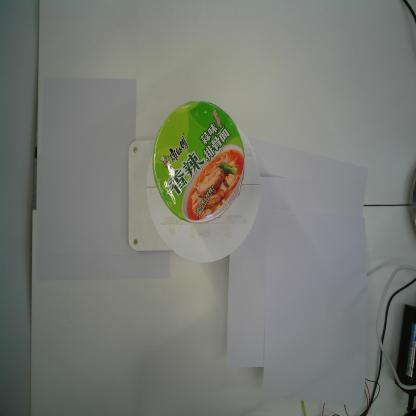Instant Noodles: (152, 97, 247, 226)
